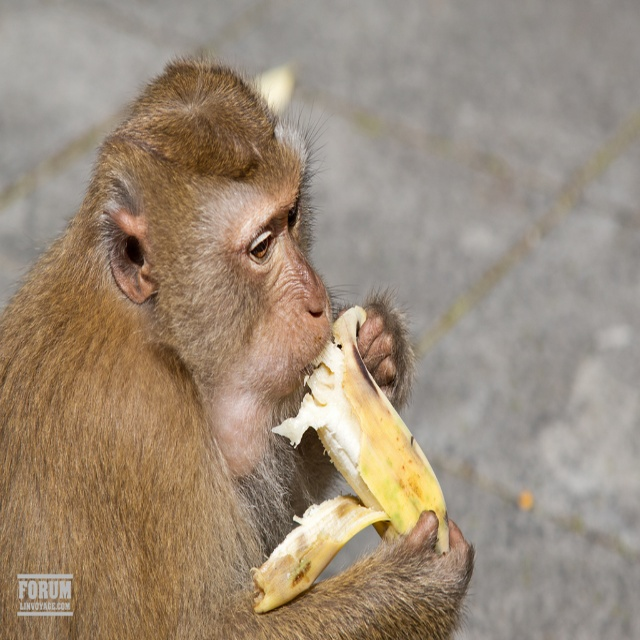Monkey: (0, 52, 475, 639)
